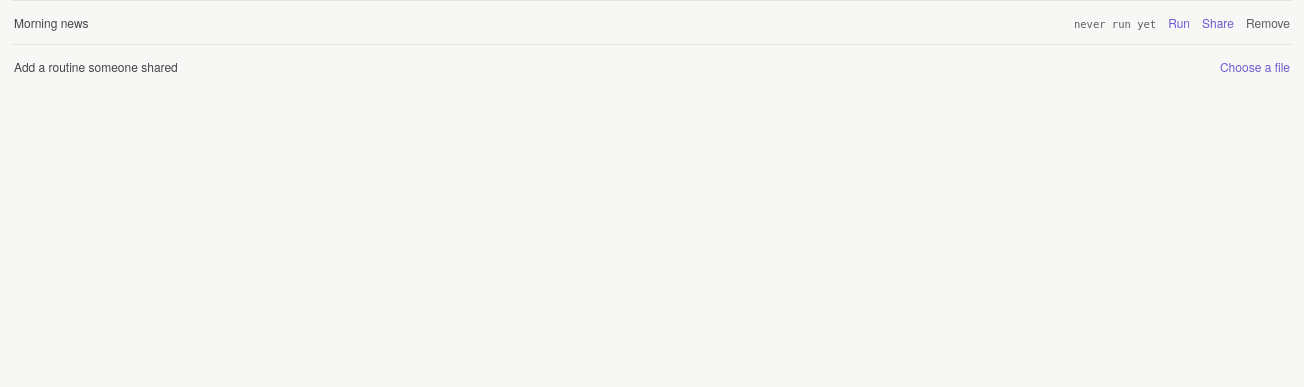
Test case: the card that asks about a routine somebody else wrote › renders the core's own answer when the file is already used up
The width and height of the screenshot is (1304, 387).
Click the button with aria-label "Add a routine someone shared with you" at point(1255, 66), box left=1220, top=58, right=1290, bottom=75
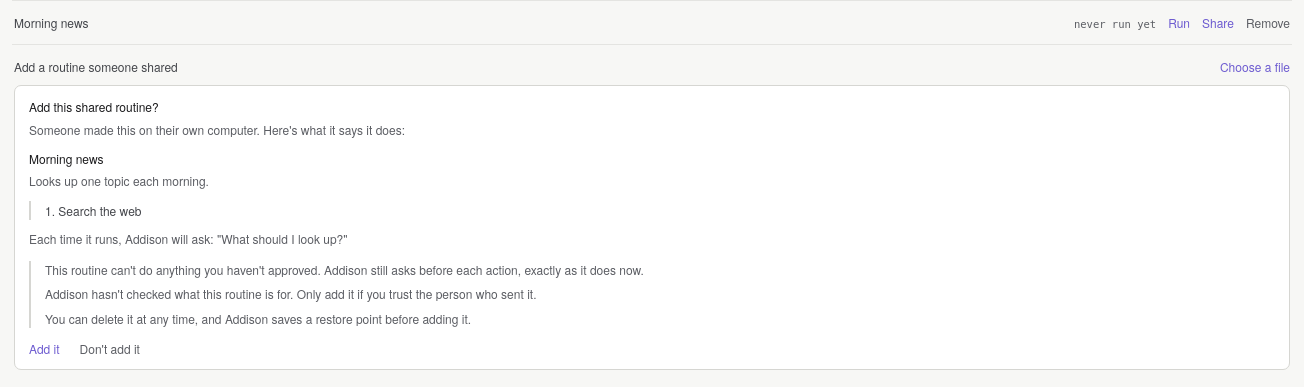
Click the button "Add it" at point(44, 349), box left=29, top=340, right=60, bottom=357
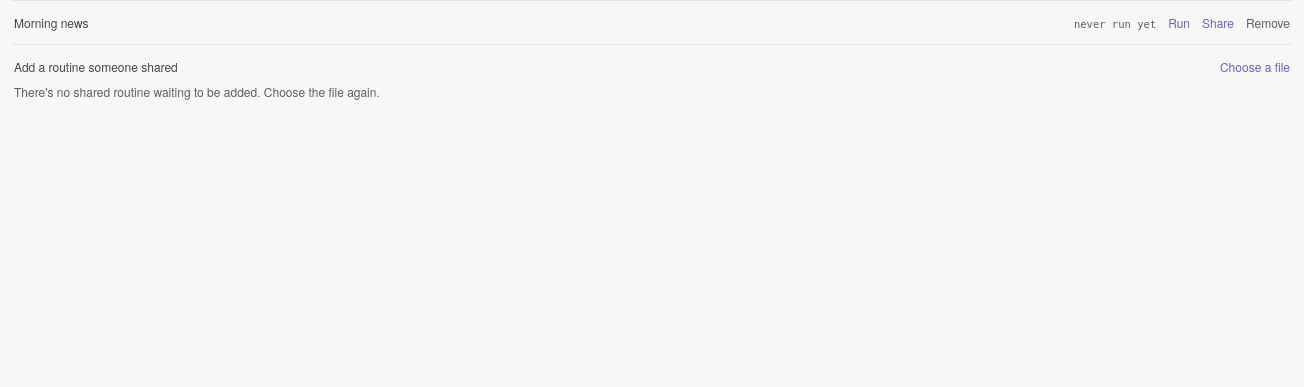
Result: the text "There's no shared routine waiting to be added. Choose the file again." is shown at left=14, top=83, right=380, bottom=100
